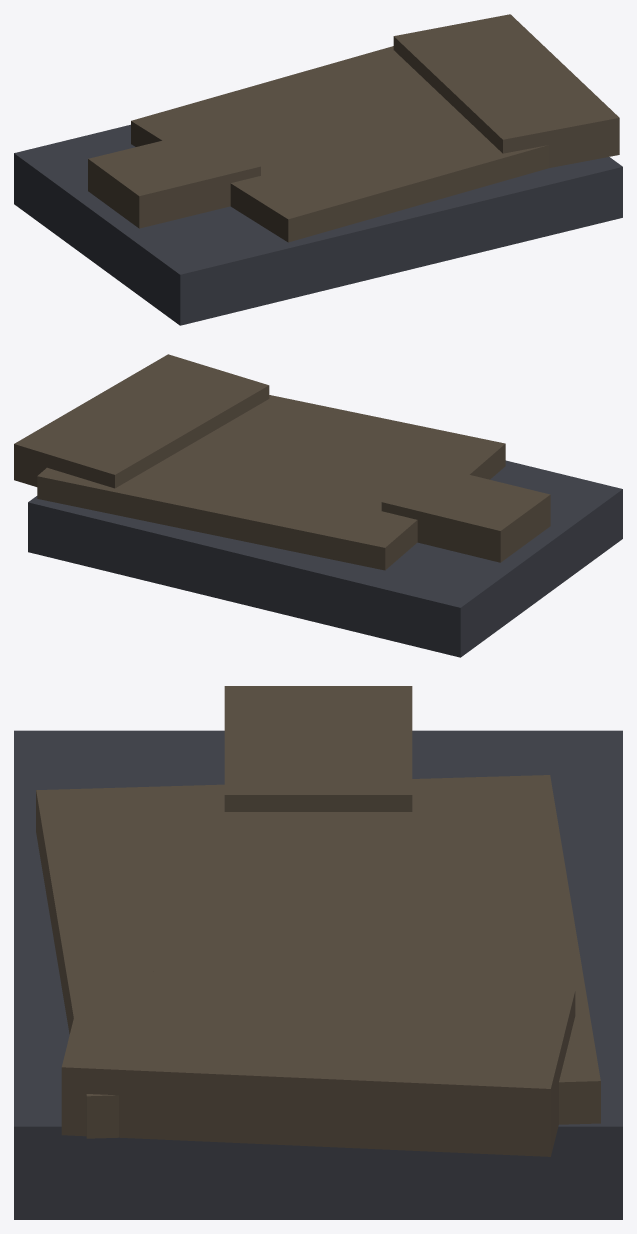
The model's file is welt_matratze.glb.
3 views of the same model, one above another, from view 1: azimuth 30°, elevation 25°; view 2: azimuth 150°, elevation 25°; view 3: azimuth 270°, elevation 25° (orthographic). The views are drawn at different scales.
Parts seen in each view (by area): view 1: matratze_koerper, decke_haupt, decke_wulst, kissen; view 2: matratze_koerper, decke_haupt, decke_wulst, kissen; view 3: decke_haupt, matratze_koerper, decke_wulst, kissen.
Part boxes in pixels (x1,y1,x2,y2): matratze_koerper: (14,124,622,325); decke_haupt: (131,46,549,242); decke_wulst: (393,14,619,167); kissen: (88,129,260,228); matratze_koerper: (28,460,622,657); decke_haupt: (37,395,505,570); decke_wulst: (14,354,269,488); kissen: (381,465,550,562); decke_haupt: (36,775,600,1138); matratze_koerper: (14,730,622,1219); decke_wulst: (61,969,575,1156); kissen: (224,686,412,811).
Size of the model in its own units: 2.15 by 0.38 by 1.3.
